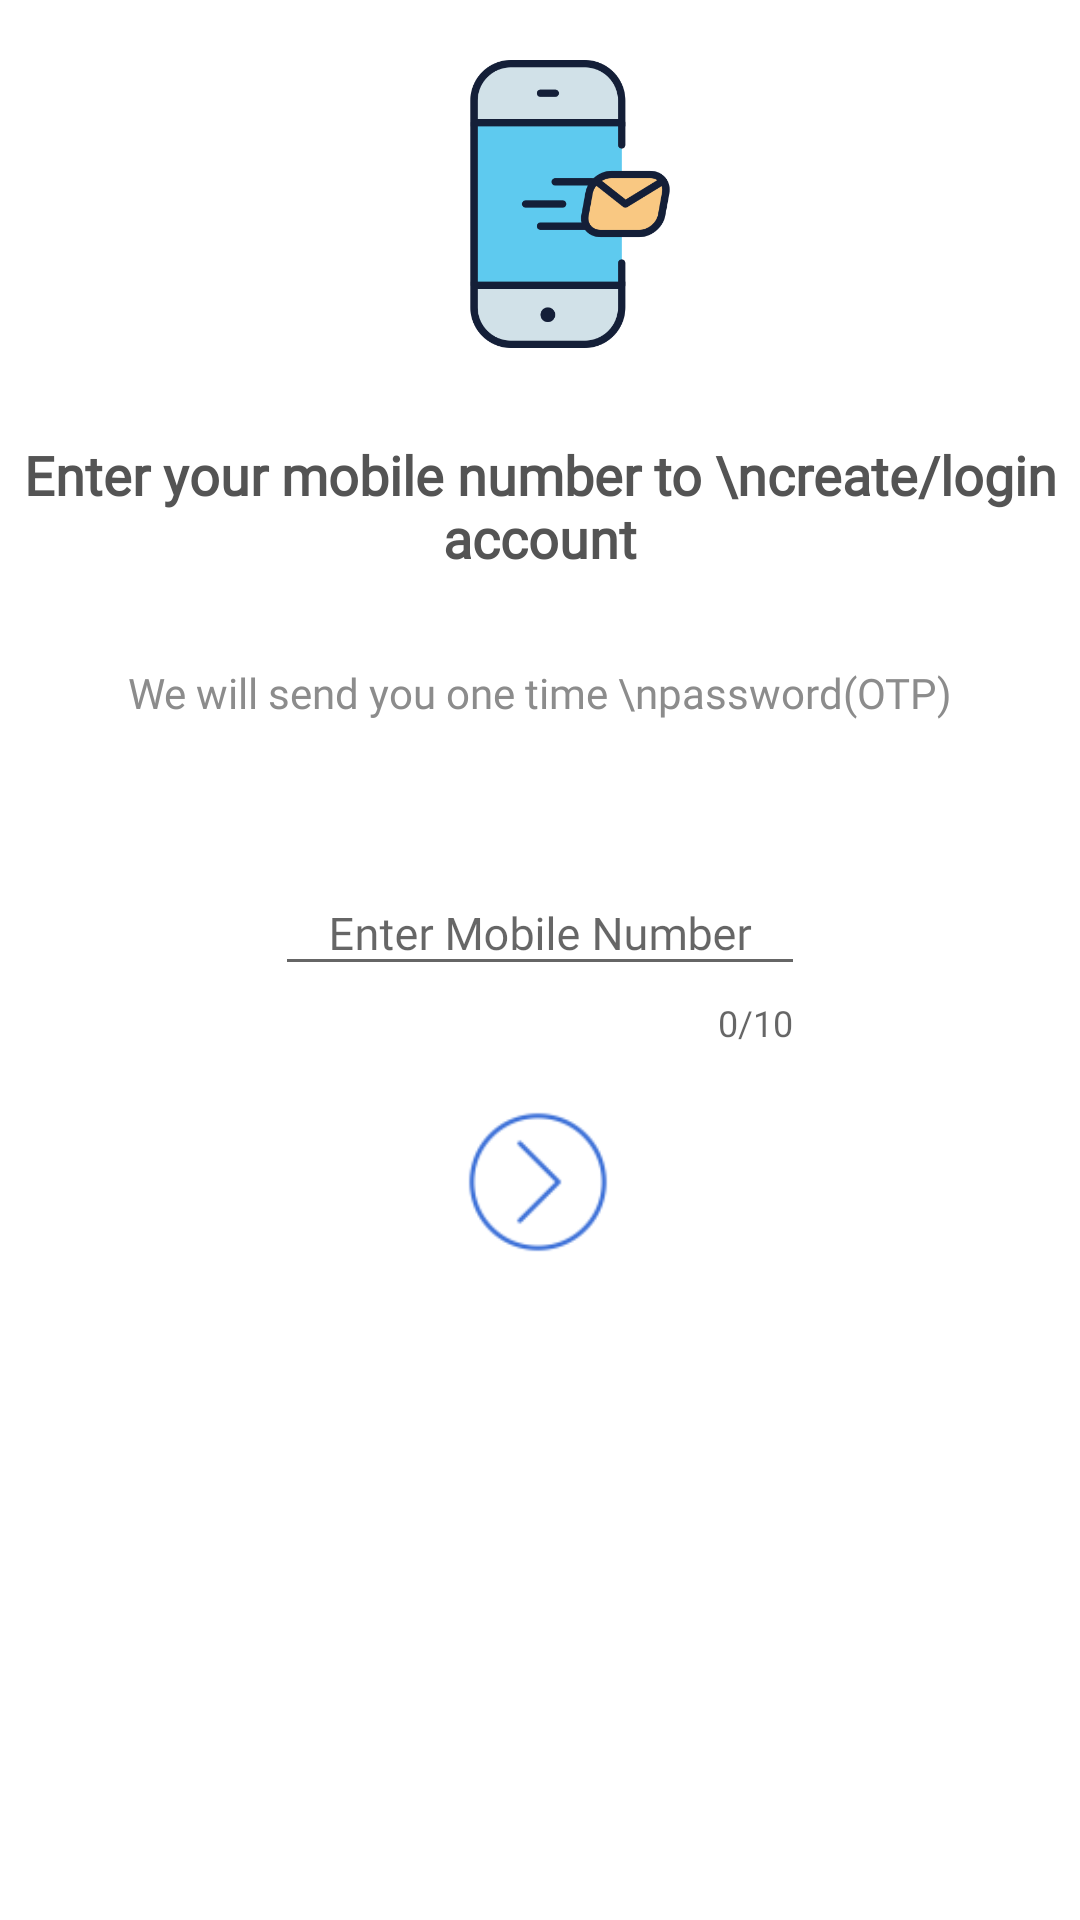

Icons on this 1080×1920 Android screen, each with its box as (x1, y1, x2, y2):
message outgoing: (470, 60, 670, 348)
right arrow: (469, 1113, 607, 1251)
